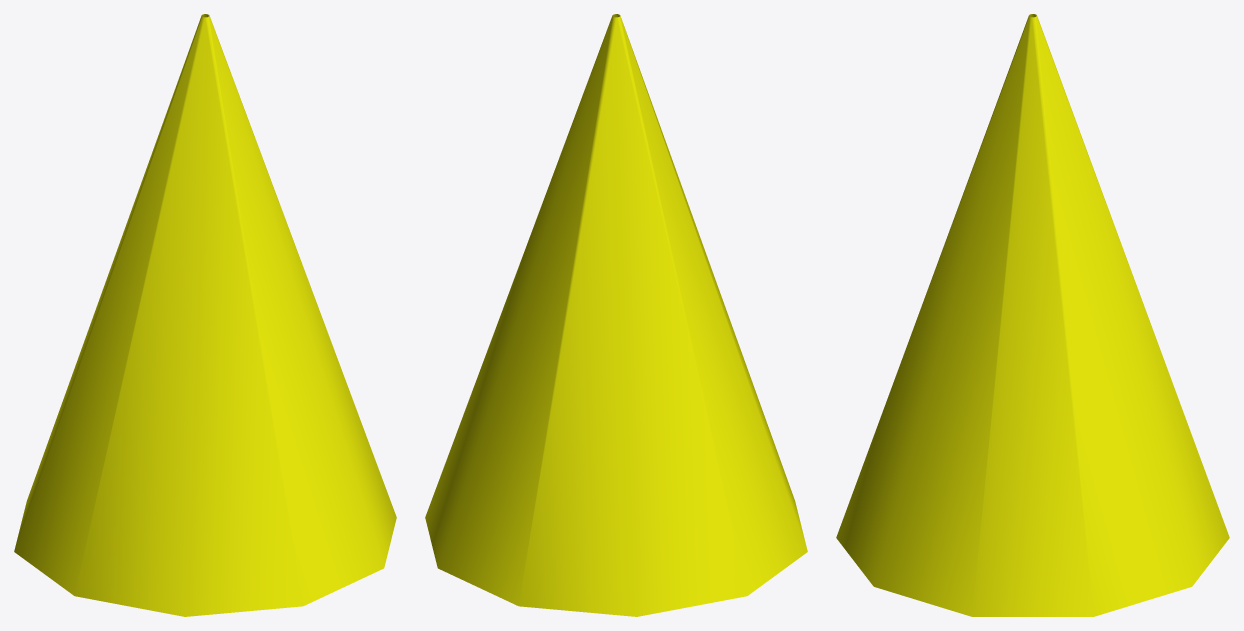
The model's file is Cone2Yellow.fbx.
The picture shows the model from 3 angles, left to right: view 1: azimuth 30°, elevation 25°; view 2: azimuth 150°, elevation 25°; view 3: azimuth 270°, elevation 25°; orthographic projection.
Visible parts, largest first — view 1: SM_Light_Cone_02; view 2: SM_Light_Cone_02; view 3: SM_Light_Cone_02.
Boxes of the visible parts, left/top/right/bottom form: SM_Light_Cone_02: left=14, top=14, right=396, bottom=616; SM_Light_Cone_02: left=425, top=14, right=807, bottom=616; SM_Light_Cone_02: left=836, top=14, right=1229, bottom=616.
Bounding box in the file's own units: 1274 × 1960 × 1339.
